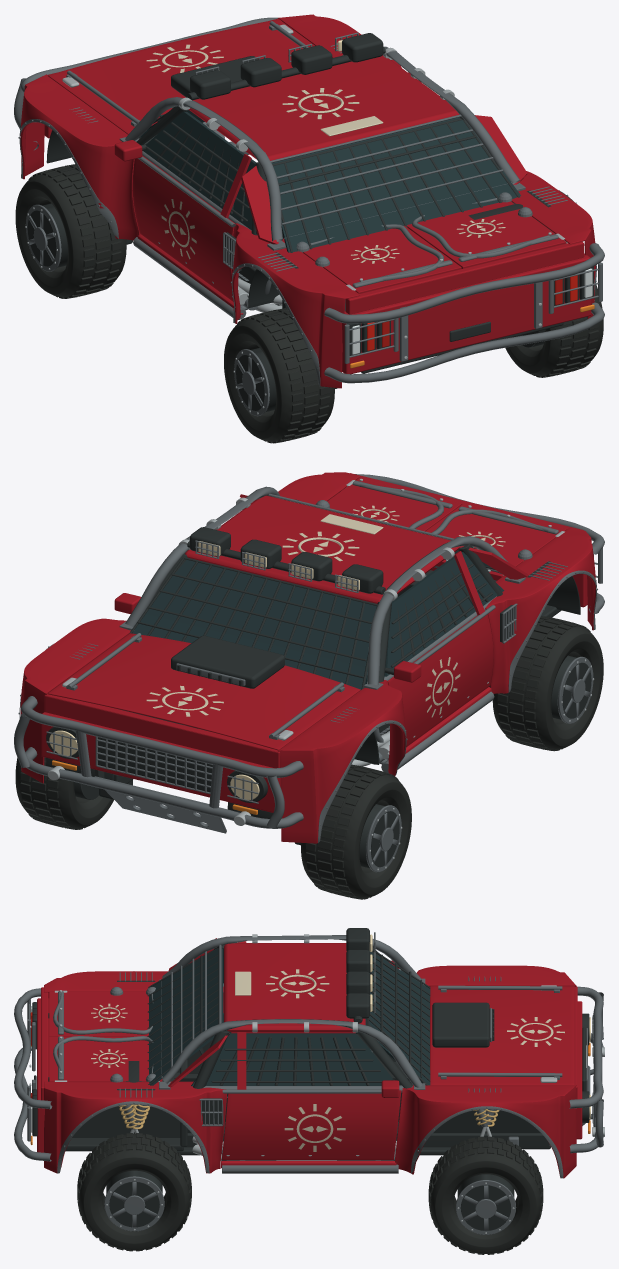
Rendered from TrackstormCar.glb.
3 views of the same model, one above another, from view 1: azimuth 30°, elevation 25°; view 2: azimuth 150°, elevation 25°; view 3: azimuth 270°, elevation 25° (orthographic). The views are drawn at different scales.
Visible parts, largest first — view 1: Chassis_Car_OxideRed, Chassis_Car_WornSteel, Chassis_Car_Graphite, Chassis_Car_ArmoredGlass.001, BodyPanel_Hood, BodyPanel_FrontFender_L, WheelSpin_RL_Car_Rubber, WheelSpin_FL_Car_Rubber, BodyPanel_RearQuarter_L, BodyPanel_Door_L, TrunkLid_L, TrunkLid_R (+14 smaller); view 2: Chassis_Car_WornSteel, Chassis_Car_OxideRed, Chassis_Car_Graphite, BodyPanel_Hood, Chassis_Car_ArmoredGlass, BodyPanel_FrontFender_L, WheelSpin_RL_Car_Rubber, WheelSpin_FL_Car_Rubber, BodyPanel_RearQuarter_L, BodyPanel_Door_L, BodyPanel_FrontFender_R, Chassis_Car_ArmoredGlass.002 (+13 smaller); view 3: Chassis_Car_Graphite, Chassis_Car_WornSteel, Chassis_Car_OxideRed, BodyPanel_Door_R, BodyPanel_Hood, WheelSpin_FR_Car_Rubber, WheelSpin_RR_Car_Rubber, BodyPanel_FrontFender_R, BodyPanel_RearQuarter_R, Chassis_Car_ArmoredGlass.003, Chassis_Car_ArmoredGlass.001, TrunkLid_L (+15 smaller).
Boxes of the visible parts, bbox=[...] form: Chassis_Car_OxideRed: bbox=[44, 18, 591, 374]; Chassis_Car_WornSteel: bbox=[14, 17, 604, 385]; Chassis_Car_Graphite: bbox=[46, 33, 593, 373]; Chassis_Car_ArmoredGlass.001: bbox=[271, 117, 520, 252]; BodyPanel_Hood: bbox=[48, 19, 314, 134]; BodyPanel_FrontFender_L: bbox=[20, 74, 140, 240]; WheelSpin_RL_Car_Rubber: bbox=[224, 308, 334, 443]; WheelSpin_FL_Car_Rubber: bbox=[15, 164, 126, 298]; BodyPanel_RearQuarter_L: bbox=[232, 223, 360, 388]; BodyPanel_Door_L: bbox=[132, 155, 234, 301]; TrunkLid_L: bbox=[303, 225, 461, 293]; TrunkLid_R: bbox=[407, 201, 566, 268]; Chassis_Car_WornSteel: bbox=[14, 474, 604, 843]; Chassis_Car_OxideRed: bbox=[41, 473, 587, 812]; Chassis_Car_Graphite: bbox=[46, 495, 593, 818]; BodyPanel_Hood: bbox=[48, 633, 360, 750]; Chassis_Car_ArmoredGlass: bbox=[132, 558, 376, 689]; BodyPanel_FrontFender_L: bbox=[277, 680, 405, 843]; WheelSpin_RL_Car_Rubber: bbox=[492, 616, 603, 751]; WheelSpin_FL_Car_Rubber: bbox=[301, 764, 411, 899]; BodyPanel_RearQuarter_L: bbox=[485, 527, 595, 693]; BodyPanel_Door_L: bbox=[387, 609, 493, 746]; BodyPanel_FrontFender_R: bbox=[20, 618, 130, 783]; Chassis_Car_ArmoredGlass.002: bbox=[384, 552, 504, 676]; Chassis_Car_Graphite: bbox=[32, 928, 589, 1155]; Chassis_Car_WornSteel: bbox=[14, 932, 603, 1178]; Chassis_Car_OxideRed: bbox=[37, 938, 582, 1152]; BodyPanel_Door_R: bbox=[221, 1090, 401, 1160]; BodyPanel_Hood: bbox=[430, 986, 574, 1085]; WheelSpin_FR_Car_Rubber: bbox=[428, 1136, 543, 1254]; WheelSpin_RR_Car_Rubber: bbox=[77, 1133, 191, 1251]; BodyPanel_FrontFender_R: bbox=[395, 1085, 576, 1178]; BodyPanel_RearQuarter_R: bbox=[44, 1081, 227, 1173]; Chassis_Car_ArmoredGlass.003: bbox=[191, 1033, 392, 1086]; Chassis_Car_ArmoredGlass.001: bbox=[149, 948, 223, 1085]; TrunkLid_L: bbox=[49, 992, 148, 1036].
Bounding box in the file's own units: 3.37 × 2.32 × 5.64.
